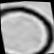no answer: (0, 2, 54, 54)
